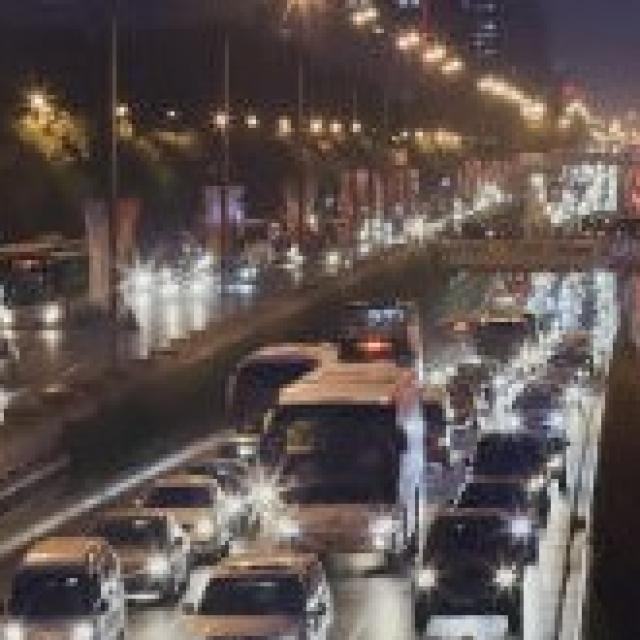bus: (266, 362, 426, 565), (0, 243, 112, 326)
car: (412, 499, 526, 638), (4, 532, 124, 640), (182, 557, 326, 640), (82, 508, 192, 605), (140, 473, 235, 560), (474, 429, 548, 530), (349, 636, 500, 640), (0, 598, 8, 640)
